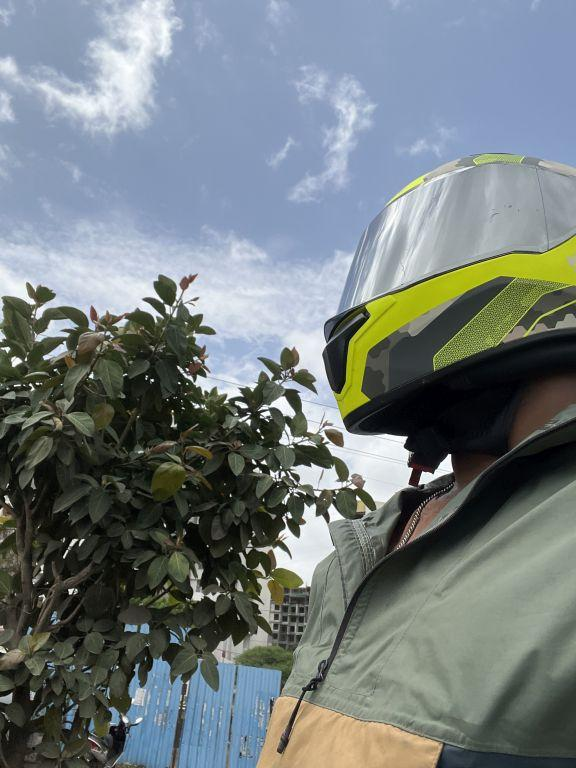helmet: (312, 134, 576, 446)
